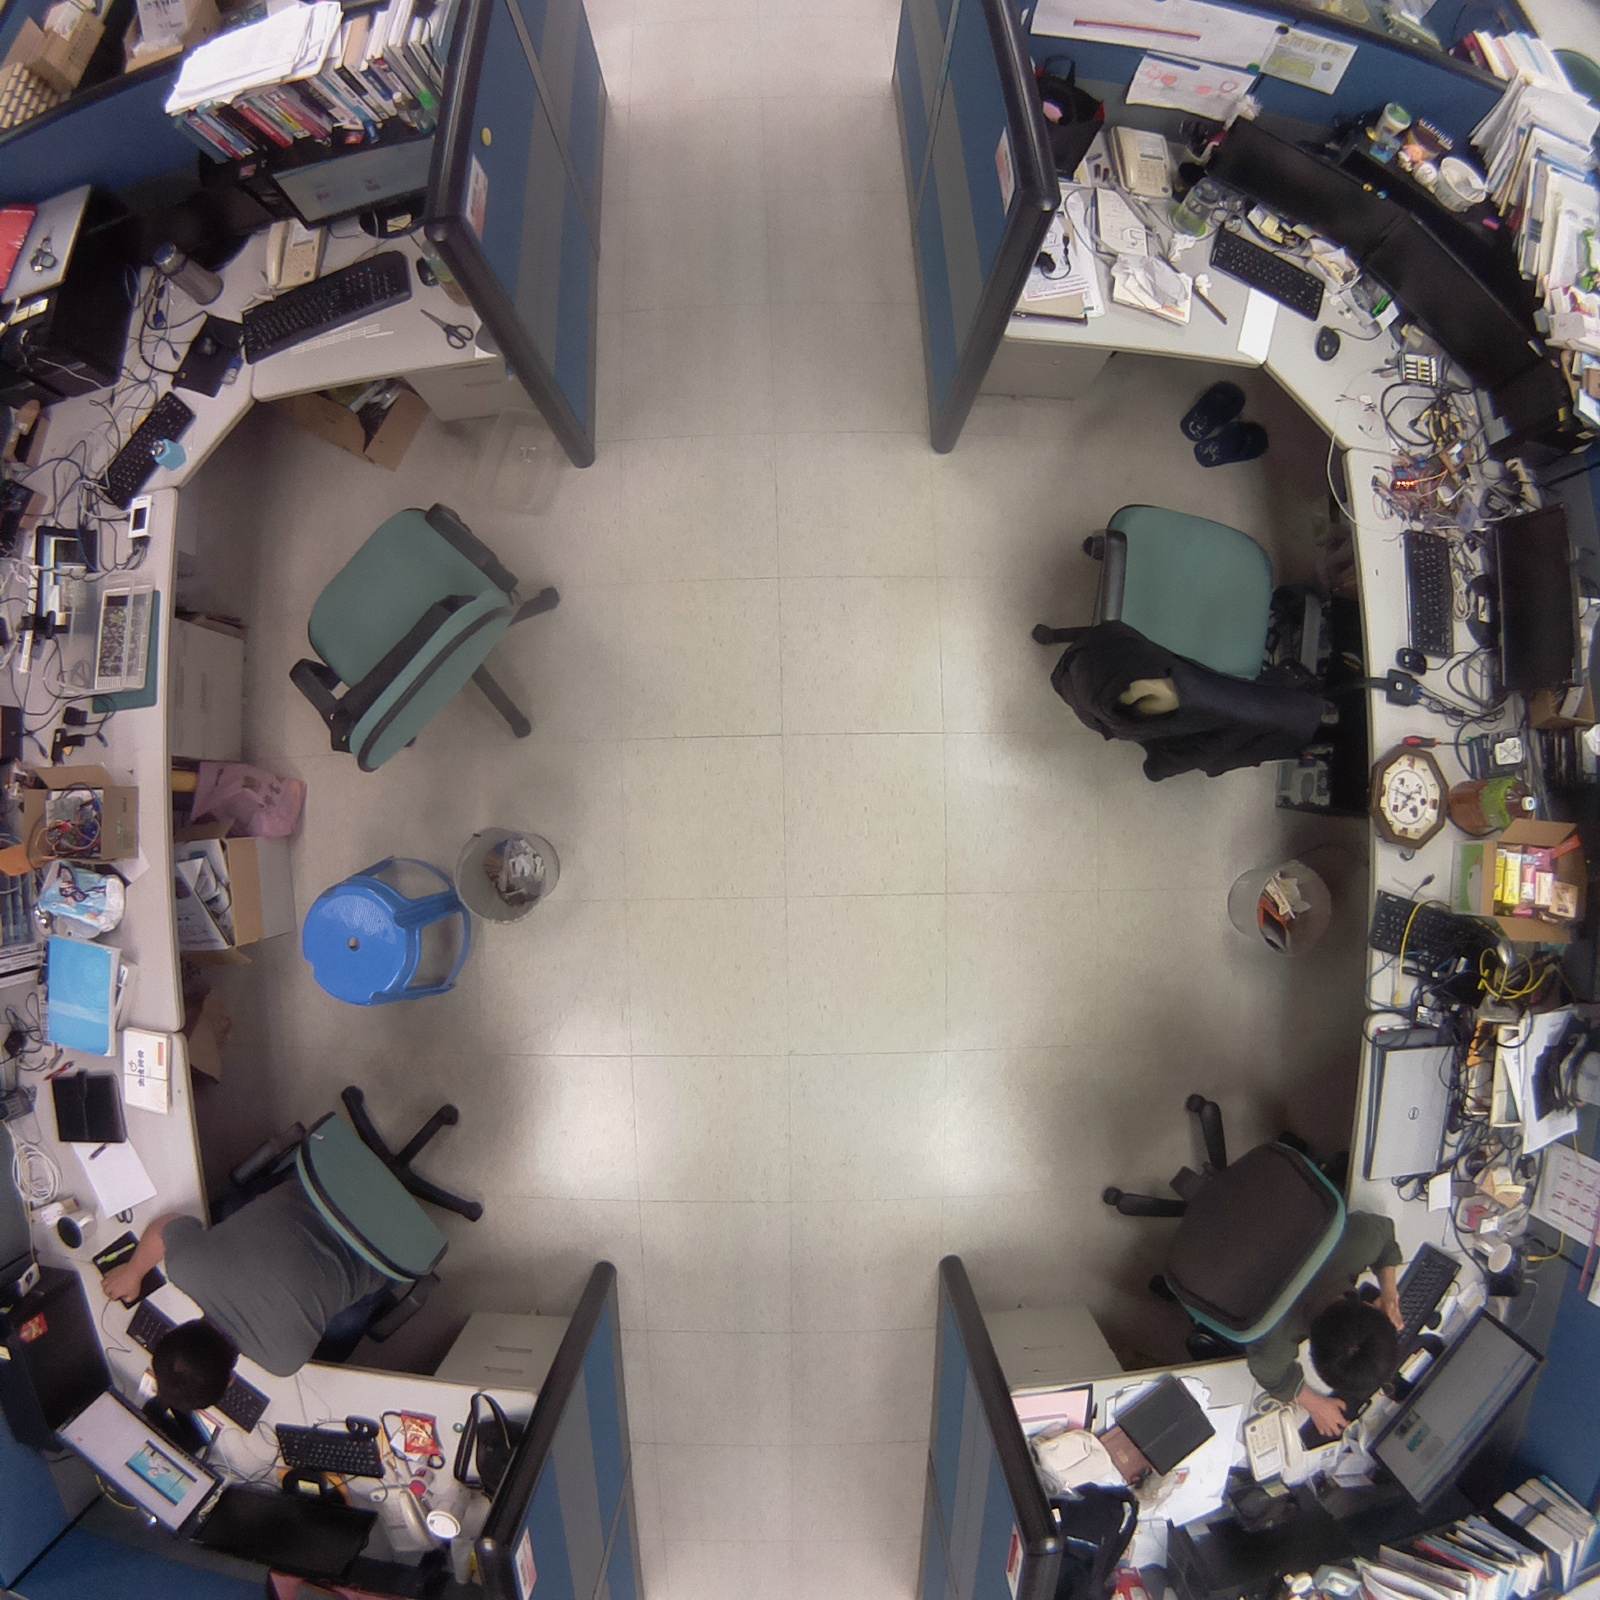chair: (1014, 465, 1358, 799), (276, 491, 573, 796)
head: (1297, 1294, 1405, 1406), (143, 1314, 241, 1418)
sitting: (93, 1073, 488, 1418), (1086, 1075, 1430, 1447)
